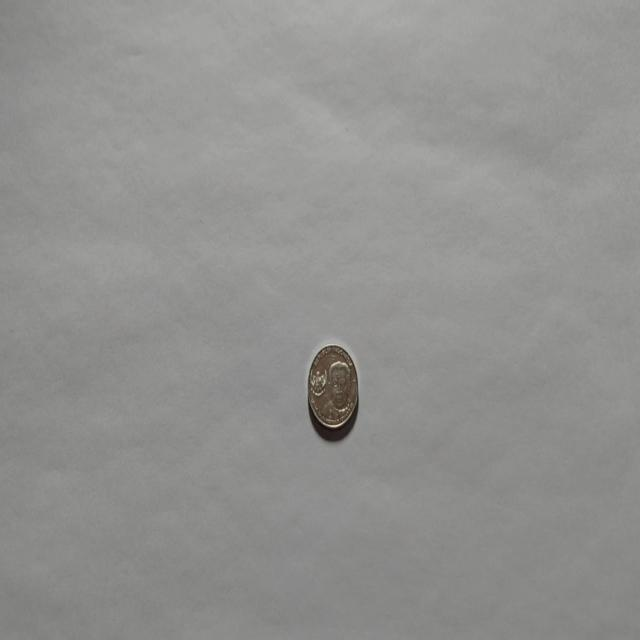seratus rupiah: (306, 342, 358, 433)
